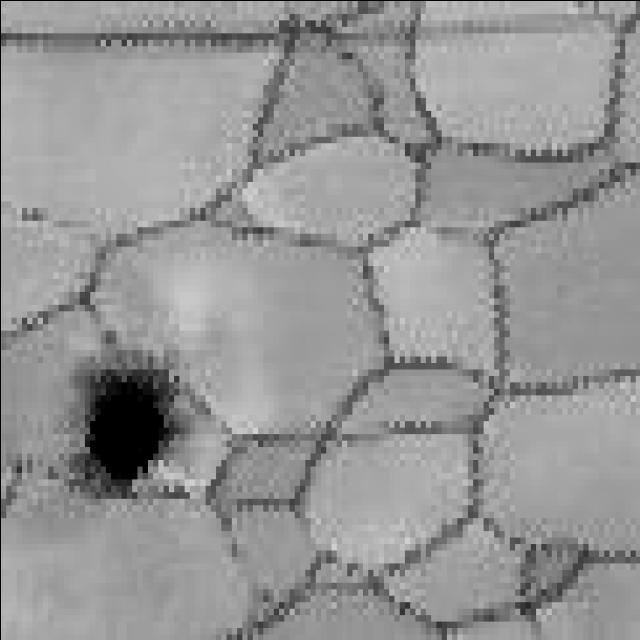good_void: (65, 331, 193, 501)
